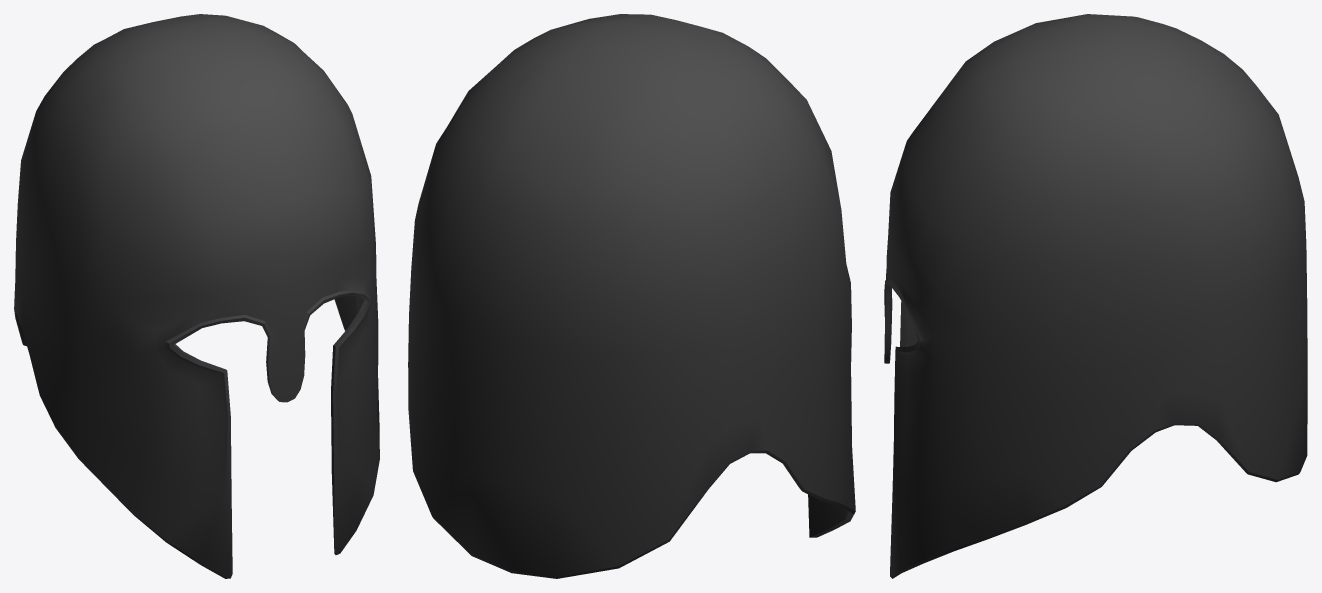
Rendered from Helmet_1.fbx.
3 renders of one model, left to right at view 1: azimuth 30°, elevation 25°; view 2: azimuth 150°, elevation 25°; view 3: azimuth 270°, elevation 25°, orthographic. The views are drawn at different scales.
Parts seen in each view (by area): view 1: Helmet_1; view 2: Helmet_1; view 3: Helmet_1.
Part boxes in pixels (x1=…): Helmet_1: x1=14, y1=14, x2=379, y2=578; Helmet_1: x1=408, y1=14, x2=855, y2=578; Helmet_1: x1=884, y1=14, x2=1307, y2=578.
Size of the model in its own units: 24.91 by 36.59 by 27.16.
